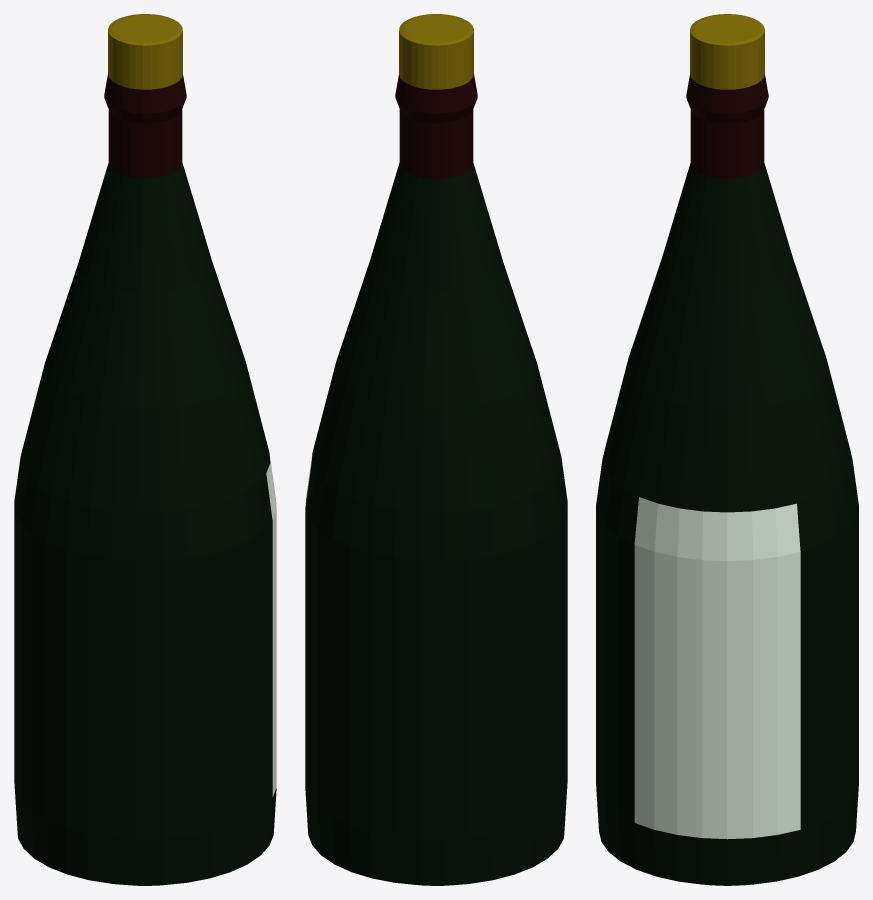
The model's file is wine.glb.
The picture shows the model from 3 angles, left to right: view 1: azimuth 30°, elevation 25°; view 2: azimuth 150°, elevation 25°; view 3: azimuth 270°, elevation 25°; orthographic projection.
Parts seen in each view (by area): view 1: Raw_geometry_0; view 2: Raw_geometry_0; view 3: Raw_geometry_0.
Part boxes in pixels (bbox=[...]): Raw_geometry_0: bbox=[14, 14, 276, 885]; Raw_geometry_0: bbox=[305, 14, 567, 885]; Raw_geometry_0: bbox=[596, 14, 858, 885].
Size of the model in its own units: 0.547 by 1.88 by 0.547.
Materials: 1 (1 with a texture image).
